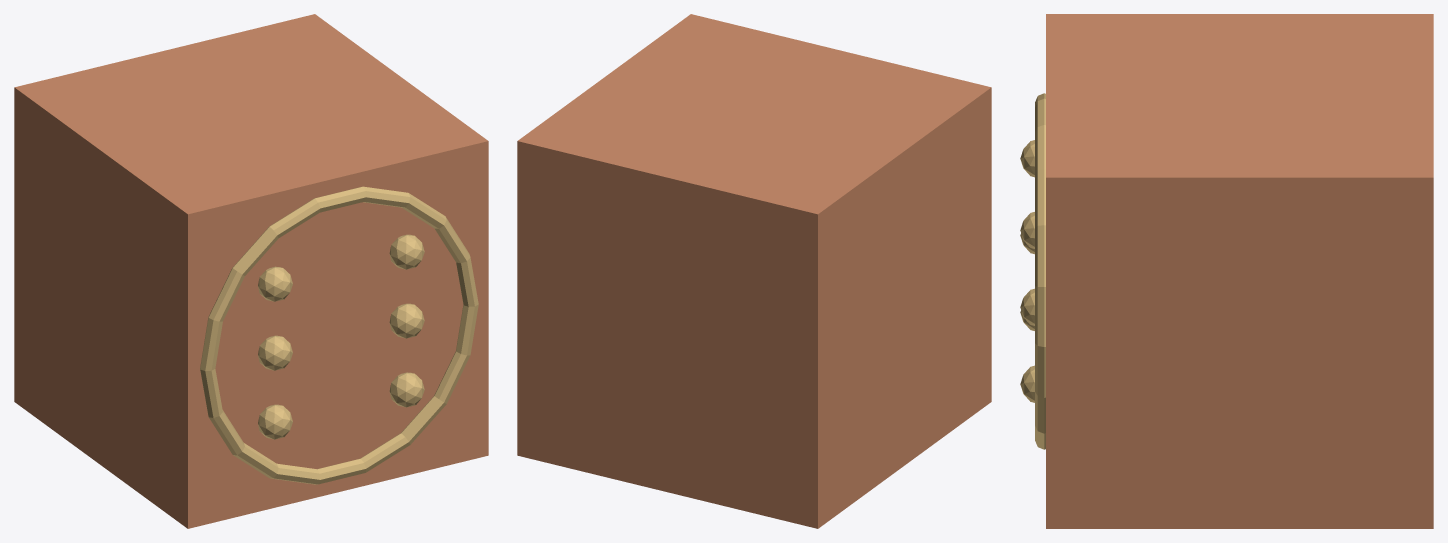
The model's file is komet.glb.
3 views of the same model, side by side, from view 1: azimuth 30°, elevation 25°; view 2: azimuth 150°, elevation 25°; view 3: azimuth 270°, elevation 25° (orthographic). The views are drawn at different scales.
Parts seen in each view (by area): view 1: world; view 2: world; view 3: world.
Boxes of the visible parts, <box> form: world: <box>14,14,488,528</box>; world: <box>517,14,991,528</box>; world: <box>1020,14,1433,528</box>.
Size of the model in its own units: 1.05 by 1.05 by 1.12.
